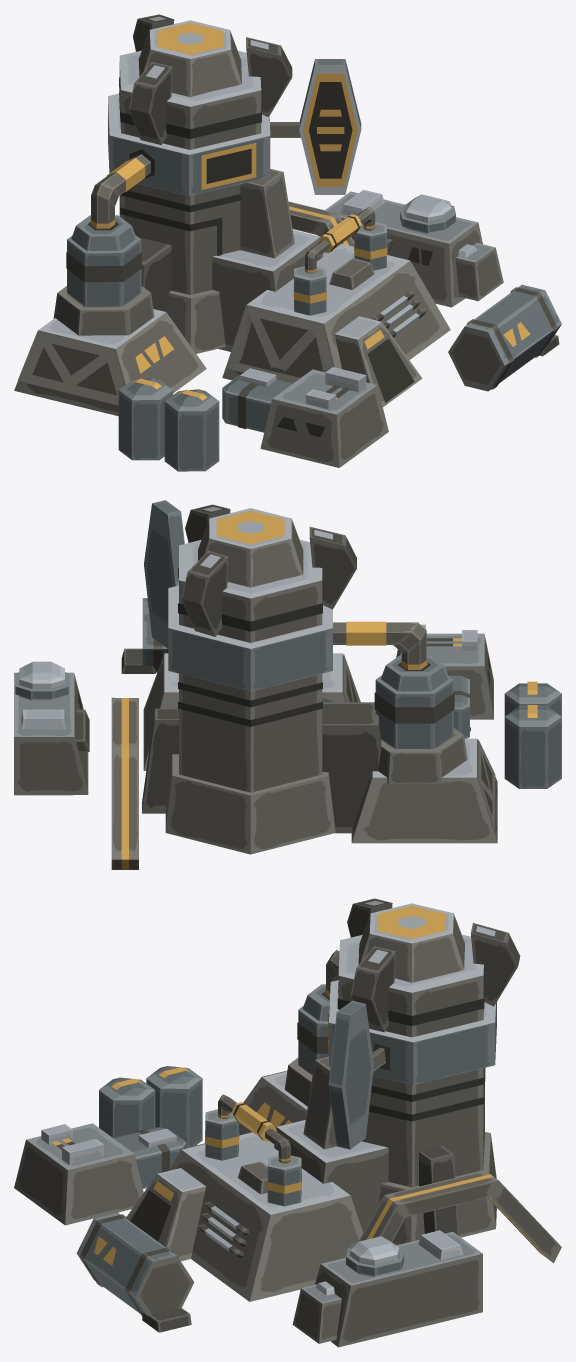
Rendered from saloon3.FBX.
The picture shows the model from 3 angles, top to bottom: view 1: azimuth 30°, elevation 25°; view 2: azimuth 150°, elevation 25°; view 3: azimuth 270°, elevation 25°; orthographic projection. The views are drawn at different scales.
Parts seen in each view (by area): view 1: saloon3, b, c, a, 2, 1, d, 3, e; view 2: saloon3, c, a, b, 3, 2, 1, e; view 3: saloon3, a, b, 1, 3, c, 2, d, e.
Part boxes in pixels (box(x1,y1,x2,y2)): saloon3: box(14, 50, 561, 471); b: box(299, 59, 361, 194); c: box(66, 215, 141, 306); a: box(138, 20, 241, 96); 2: box(129, 62, 172, 144); 1: box(246, 37, 292, 116); d: box(318, 214, 361, 253); 3: box(133, 14, 174, 51); e: box(400, 205, 455, 232); saloon3: box(14, 539, 561, 869); c: box(374, 654, 454, 748); a: box(198, 508, 303, 587); b: box(144, 500, 184, 648); 3: box(181, 550, 228, 636); 2: box(309, 527, 356, 609); 1: box(185, 504, 230, 542); e: box(15, 672, 68, 699); saloon3: box(14, 934, 561, 1347); a: box(358, 903, 465, 982); b: box(328, 1001, 373, 1149); 1: box(350, 946, 395, 1032); 3: box(470, 923, 520, 1006); c: box(297, 984, 329, 1075); 2: box(347, 898, 392, 937); d: box(231, 1102, 276, 1141); e: box(346, 1247, 403, 1275).
Bounding box in the file's own units: 160 × 154 × 95.2.
